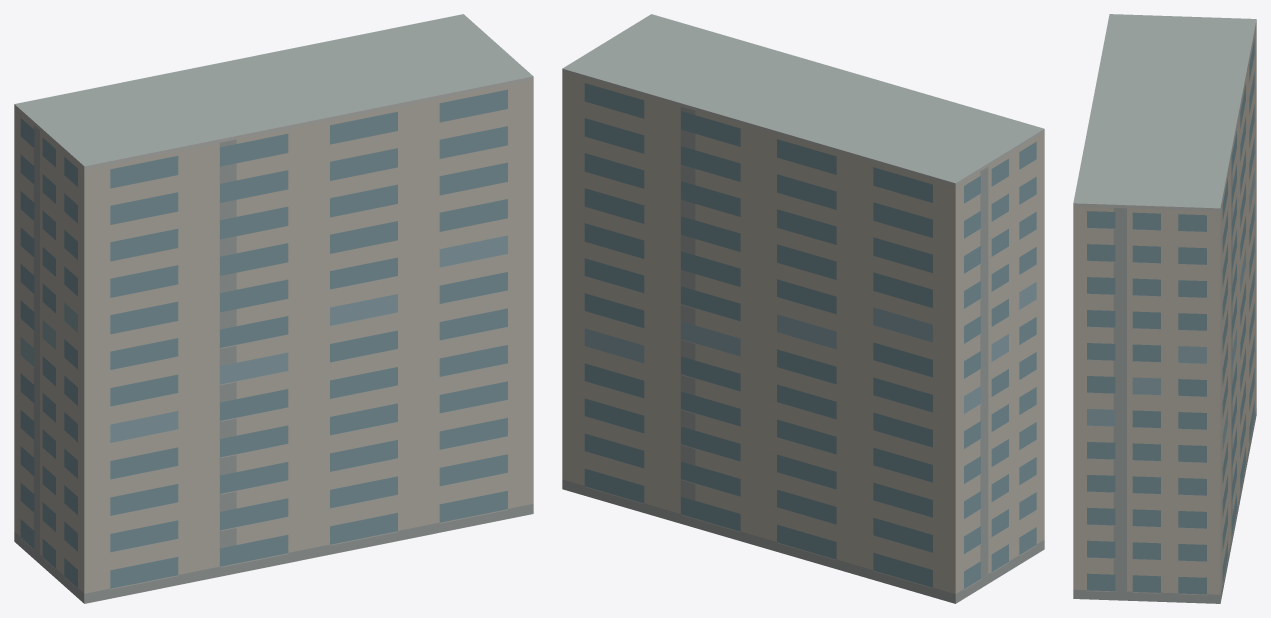
File: residential-8f6c06b6-dc49-4895-a7a7-2474c1fc8213.glb
The picture shows the model from 3 angles, left to right: view 1: azimuth 30°, elevation 25°; view 2: azimuth 150°, elevation 25°; view 3: azimuth 270°, elevation 25°; orthographic projection. The views are drawn at different scales.
Visible parts, largest first — view 1: residential-8f6c06b6-dc49-4895-a7a7-2474c1fc8213.tmp; view 2: residential-8f6c06b6-dc49-4895-a7a7-2474c1fc8213.tmp; view 3: residential-8f6c06b6-dc49-4895-a7a7-2474c1fc8213.tmp.
Part boxes in pixels (x1,y1,x2,y2): residential-8f6c06b6-dc49-4895-a7a7-2474c1fc8213.tmp: [14, 14, 533, 603]; residential-8f6c06b6-dc49-4895-a7a7-2474c1fc8213.tmp: [562, 14, 1044, 603]; residential-8f6c06b6-dc49-4895-a7a7-2474c1fc8213.tmp: [1073, 14, 1256, 603].
Size of the model in its own units: 32.68 by 31 by 13.04.
